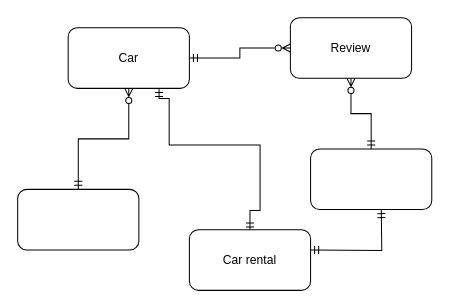
Image size: 449x308. Some labels were removed from this diagram. The shapes that lost their labels are listed below. From the top down, each one's box as (x1, y1, x2, y2) in pixels, then its label:
(310, 148, 432, 210): Client
(17, 188, 139, 250): Rate
